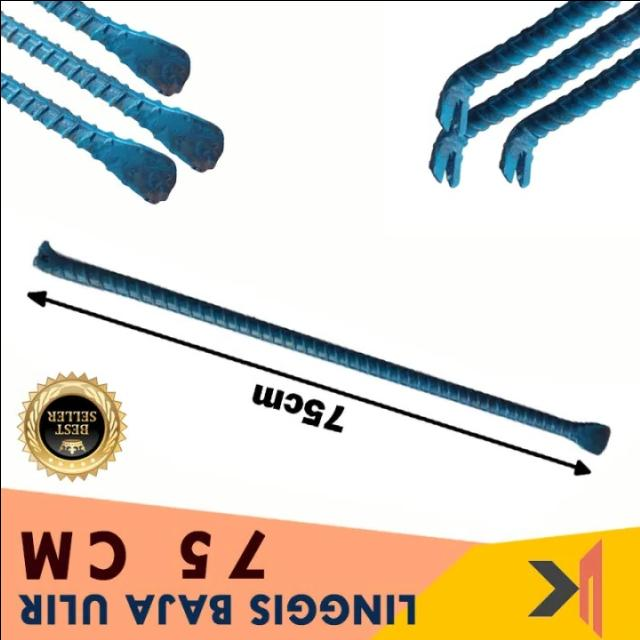Linggis: (34, 240, 609, 458)
